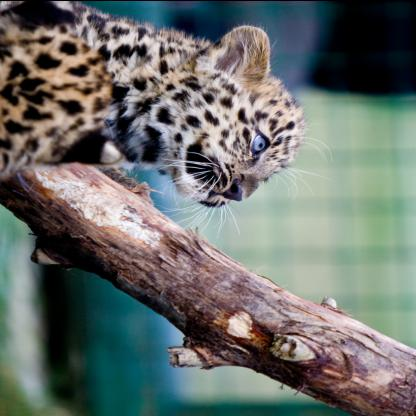leopard: (136, 19, 312, 213)
